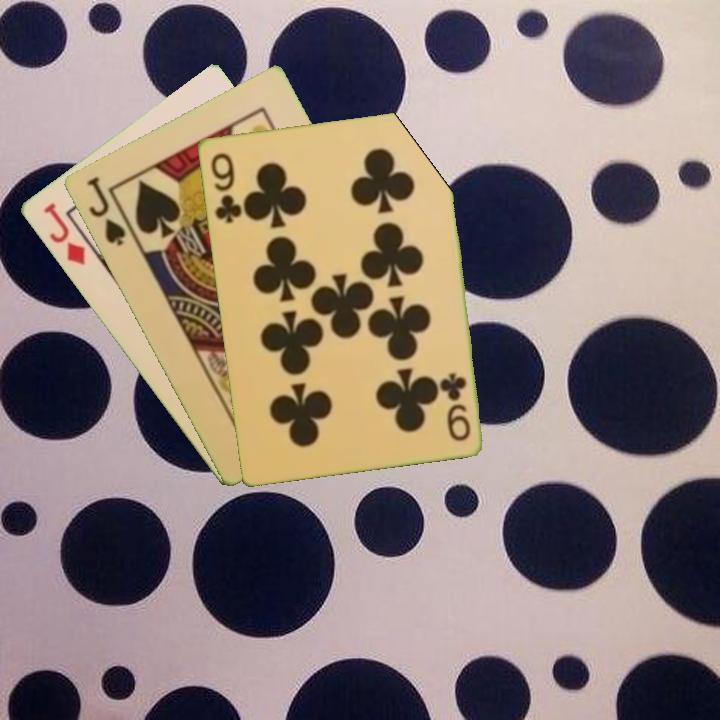9c: (206, 149, 244, 226), (439, 368, 473, 444)
Jd: (39, 199, 88, 268)
Js: (83, 172, 128, 249)
